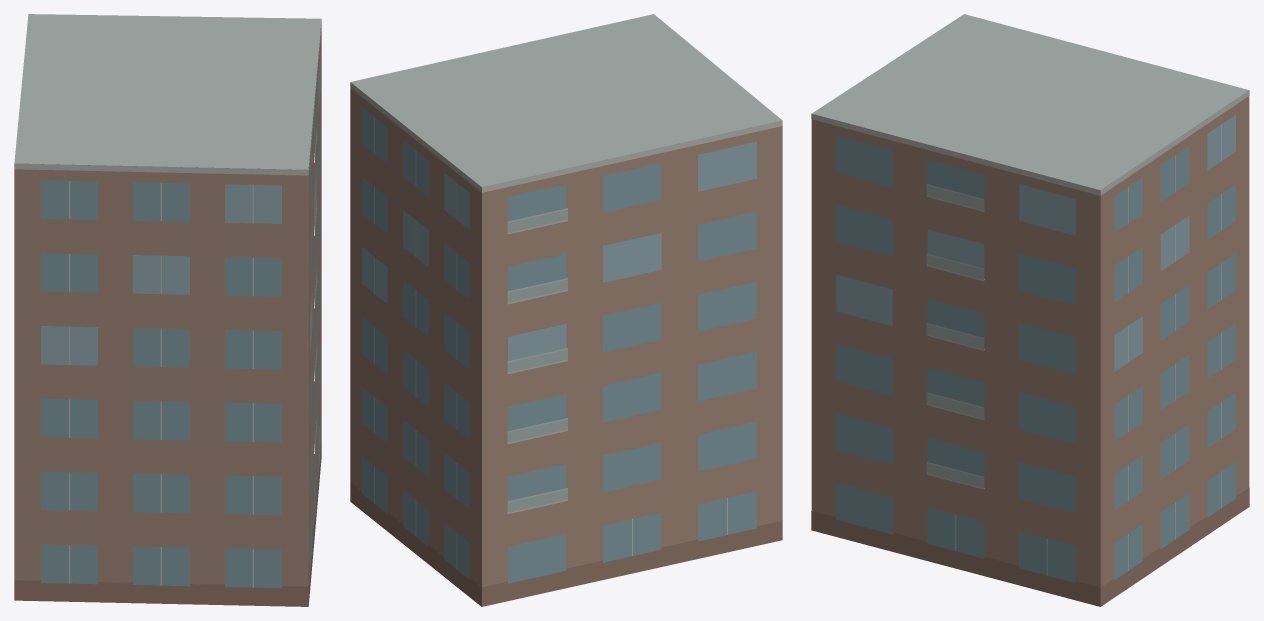
The model's file is survey-upis-32842375.glb.
3 views of the same model, side by side, from view 1: azimuth 30°, elevation 25°; view 2: azimuth 150°, elevation 25°; view 3: azimuth 270°, elevation 25° (orthographic). The views are drawn at different scales.
Parts seen in each view (by area): view 1: survey-upis-32842375.tmp; view 2: survey-upis-32842375.tmp; view 3: survey-upis-32842375.tmp.
Part boxes in pixels (x1,y1,x2,y2): survey-upis-32842375.tmp: (14, 14, 321, 606); survey-upis-32842375.tmp: (350, 14, 782, 606); survey-upis-32842375.tmp: (811, 14, 1249, 606).
Size of the model in its own units: 16.61 by 18.3 by 17.44.
